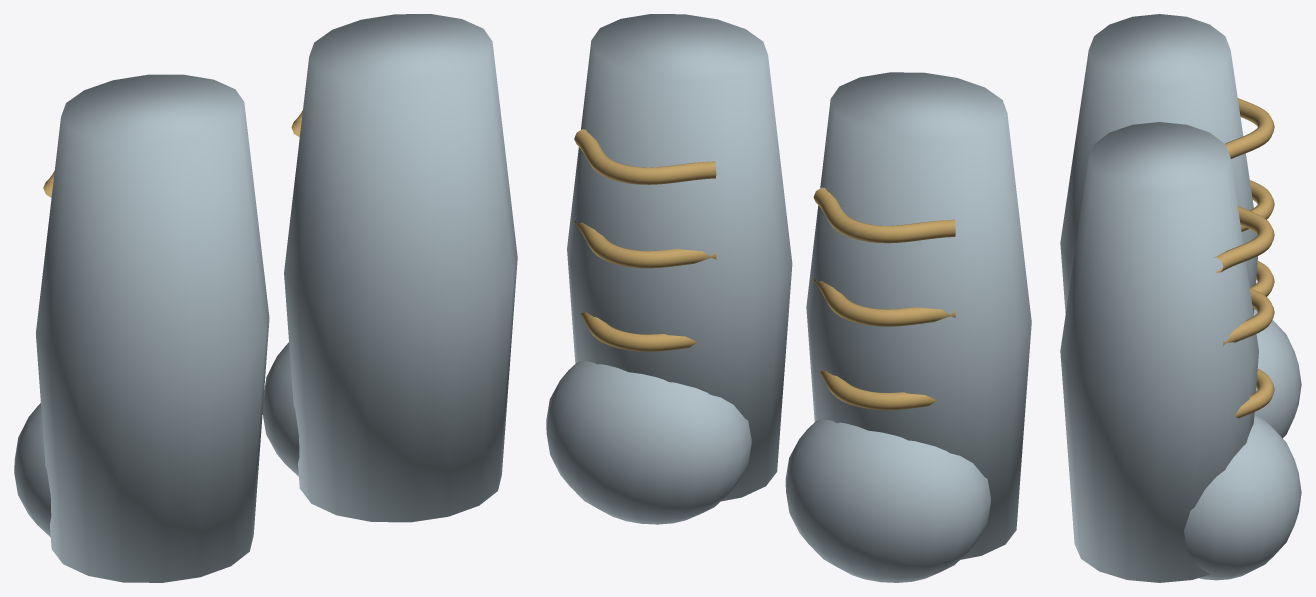
The model's file is steel_gauntlets.glb.
The picture shows the model from 3 angles, left to right: view 1: azimuth 30°, elevation 25°; view 2: azimuth 150°, elevation 25°; view 3: azimuth 270°, elevation 25°; orthographic projection. The views are drawn at different scales.
Visible parts, largest first — view 1: Articulated shell, Articulated shell.001, Knuckle plates, Knuckle plates.001; view 2: Articulated shell, Articulated shell.001, Knuckle plates, Knuckle plates.001, Panel piping.003, Panel piping.007, Panel piping.002, Panel piping.006, Panel piping.001, Panel piping.005; view 3: Articulated shell.001, Articulated shell, Knuckle plates.001, Knuckle plates, Panel piping.007, Panel piping.003, Panel piping.006, Panel piping.005, Panel piping.002, Panel piping.001.
Part boxes in pixels (x1,y1,x2,y2): Articulated shell: (35, 74, 269, 582); Articulated shell.001: (284, 14, 517, 522); Knuckle plates: (14, 403, 51, 536); Knuckle plates.001: (262, 342, 299, 476); Articulated shell: (806, 72, 1031, 559); Articulated shell.001: (567, 14, 792, 501); Knuckle plates: (785, 419, 990, 582); Knuckle plates.001: (546, 360, 751, 524); Panel piping.003: (813, 187, 955, 243); Panel piping.007: (574, 129, 716, 184); Panel piping.002: (813, 277, 955, 326); Panel piping.006: (574, 218, 716, 268); Panel piping.001: (820, 370, 937, 410); Panel piping.005: (580, 312, 697, 351); Articulated shell.001: (1060, 122, 1258, 582); Articulated shell: (1060, 14, 1257, 313); Knuckle plates.001: (1184, 415, 1301, 580); Knuckle plates: (1253, 309, 1301, 438); Panel piping.007: (1214, 206, 1274, 272); Panel piping.003: (1225, 98, 1274, 158); Panel piping.006: (1222, 288, 1274, 345); Panel piping.005: (1234, 369, 1274, 418); Panel piping.002: (1240, 180, 1274, 231); Panel piping.001: (1251, 261, 1274, 296).
Bounding box in the file's own units: 0.66 × 0.64 × 0.34.
